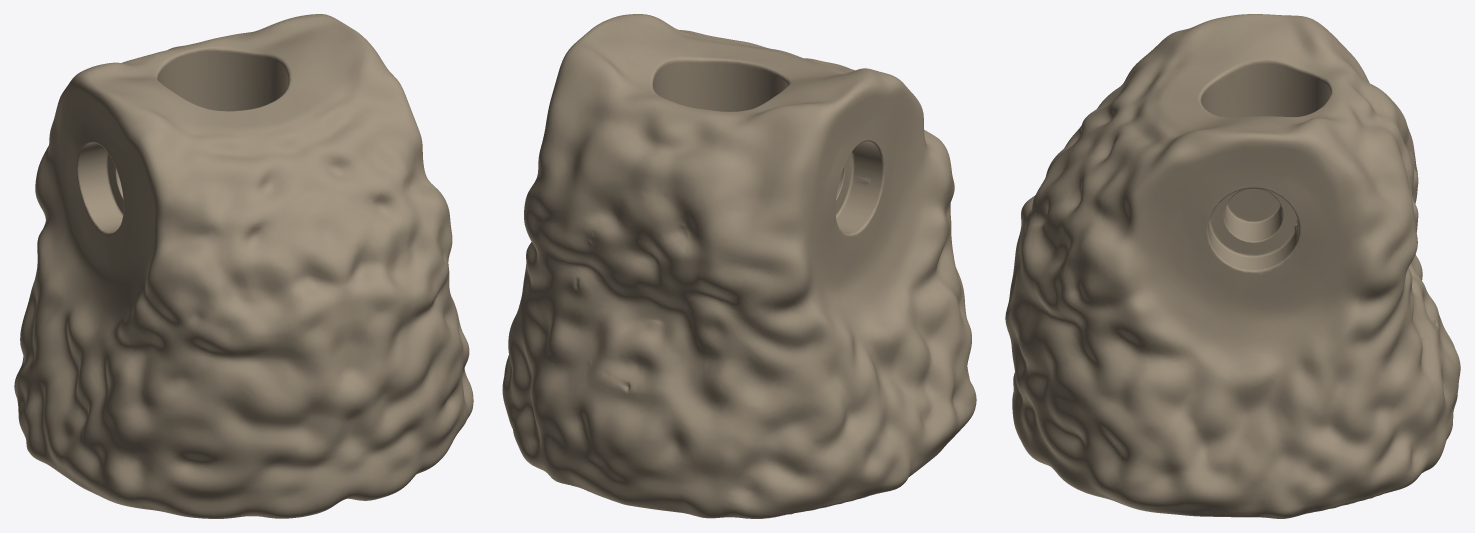
The model's file is Buste_Mouton.glb.
The picture shows the model from 3 angles, left to right: view 1: azimuth 30°, elevation 25°; view 2: azimuth 150°, elevation 25°; view 3: azimuth 270°, elevation 25°; orthographic projection. The views are drawn at different scales.
Visible parts, largest first — view 1: Buste_Mouton; view 2: Buste_Mouton; view 3: Buste_Mouton.
Part boxes in pixels (left/top/right/bottom): Buste_Mouton: left=14, top=14, right=473, bottom=518; Buste_Mouton: left=502, top=14, right=976, bottom=518; Buste_Mouton: left=1005, top=14, right=1460, bottom=518.
Size of the model in its own units: 4.29 by 3.91 by 4.51.
